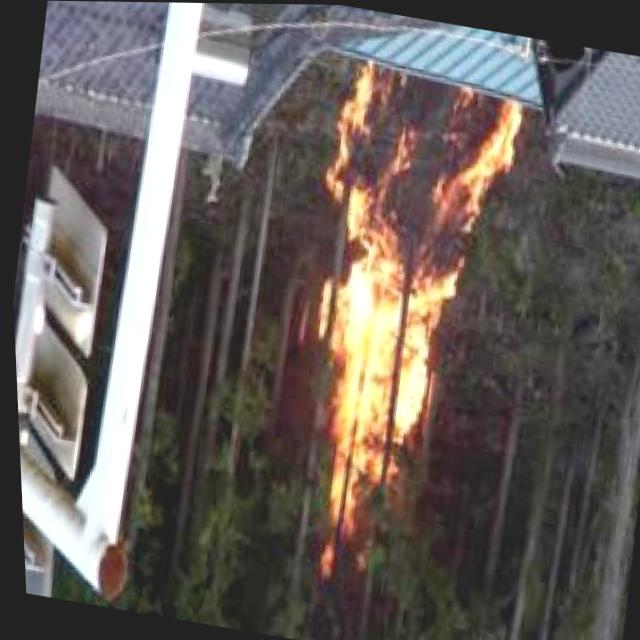Fire: (260, 54, 541, 581)
